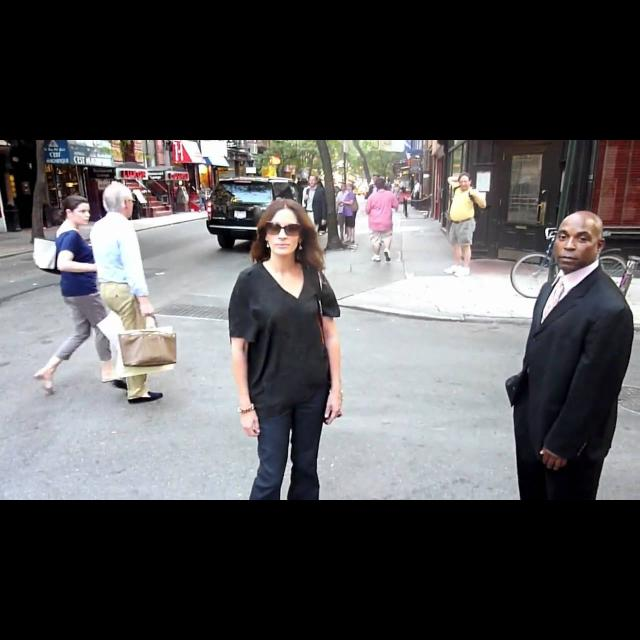head: (553, 209, 607, 273), (265, 199, 307, 257), (102, 182, 134, 218), (64, 196, 92, 226), (459, 173, 473, 191), (309, 175, 319, 187), (375, 179, 385, 189), (341, 184, 349, 192), (346, 184, 354, 192), (372, 174, 380, 182), (308, 181, 314, 187), (414, 179, 418, 185), (200, 184, 204, 188), (394, 183, 398, 187)
person: (84, 177, 184, 411), (28, 191, 128, 401), (435, 167, 489, 285), (364, 177, 401, 265), (301, 171, 329, 255), (366, 172, 394, 238), (334, 181, 360, 247), (330, 182, 352, 244), (300, 180, 320, 232), (197, 182, 211, 216), (412, 177, 424, 215), (391, 182, 403, 214)
